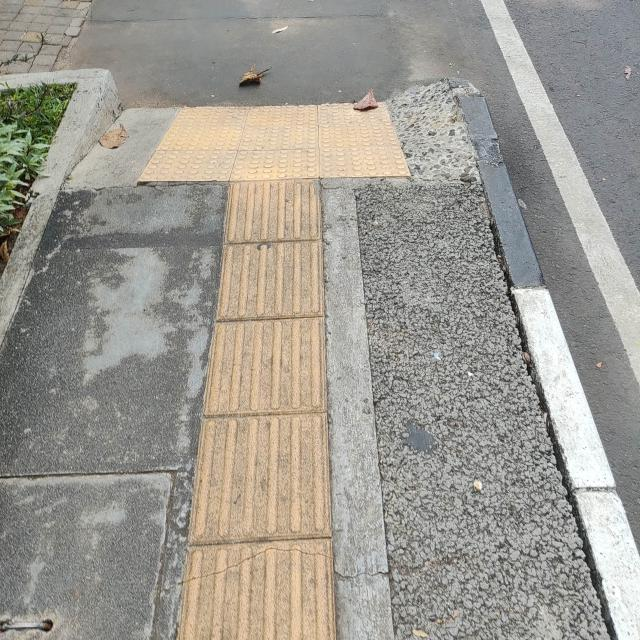lurus: (208, 173, 348, 640)
